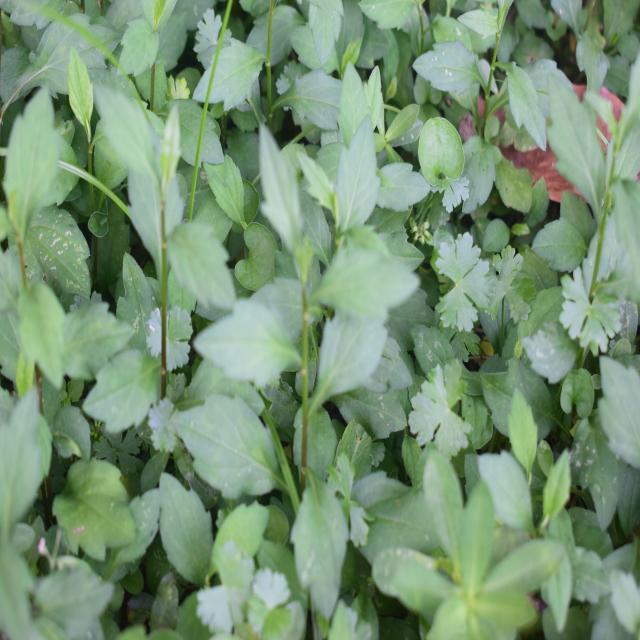Indian aster: (208, 144, 386, 538)
